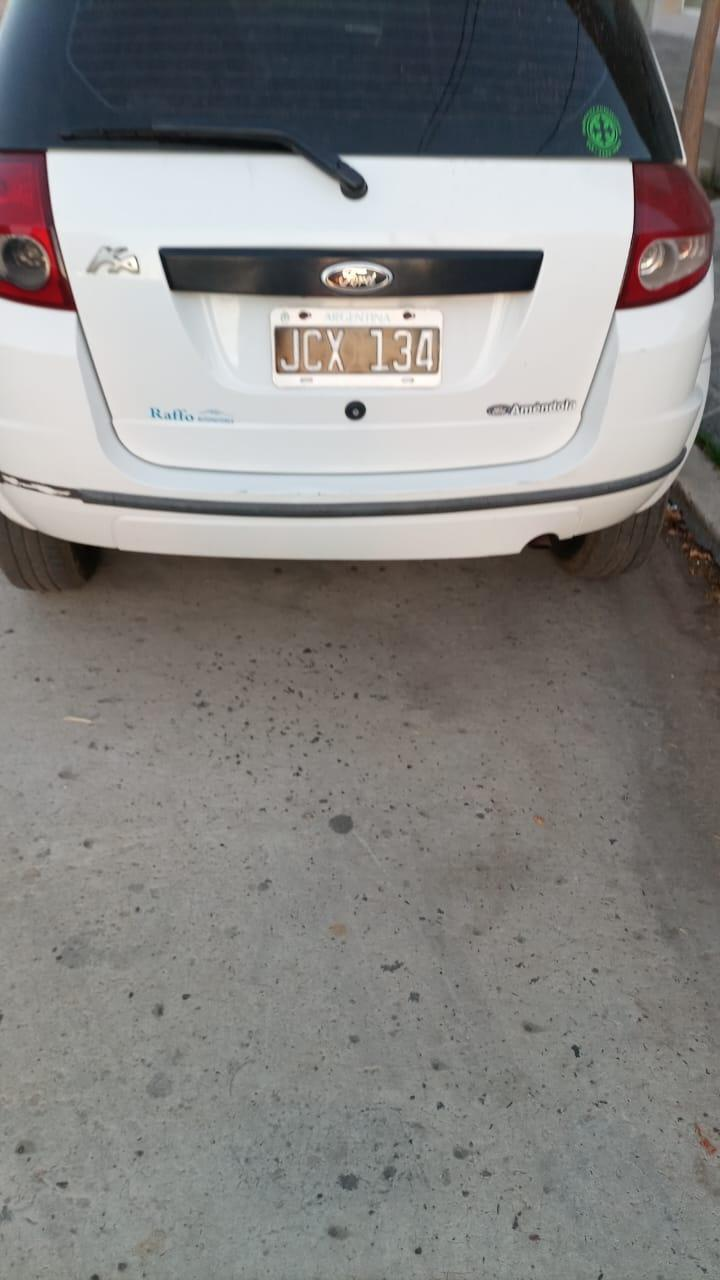matricula: (272, 302, 444, 390)
